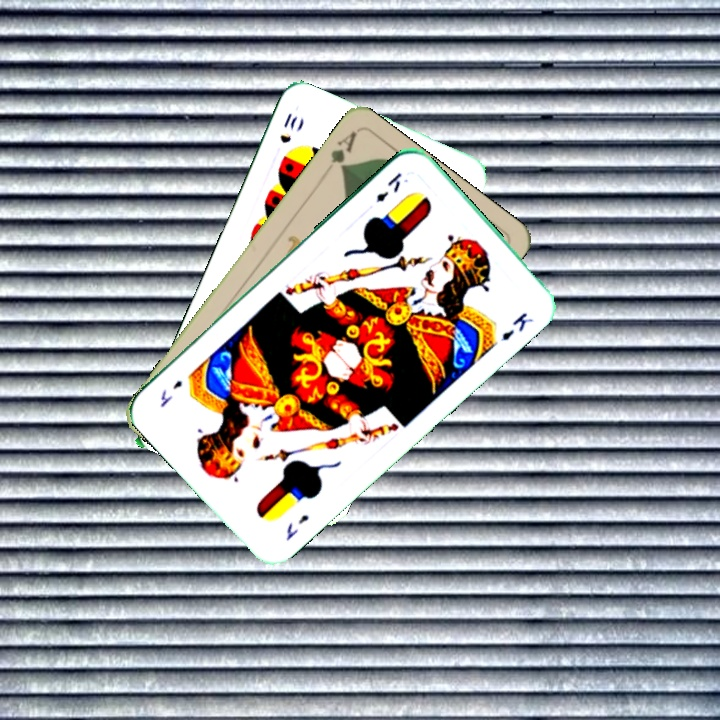EK: (372, 168, 405, 205), (281, 510, 312, 544)
GA: (326, 127, 359, 174)
S10: (275, 108, 300, 146)
